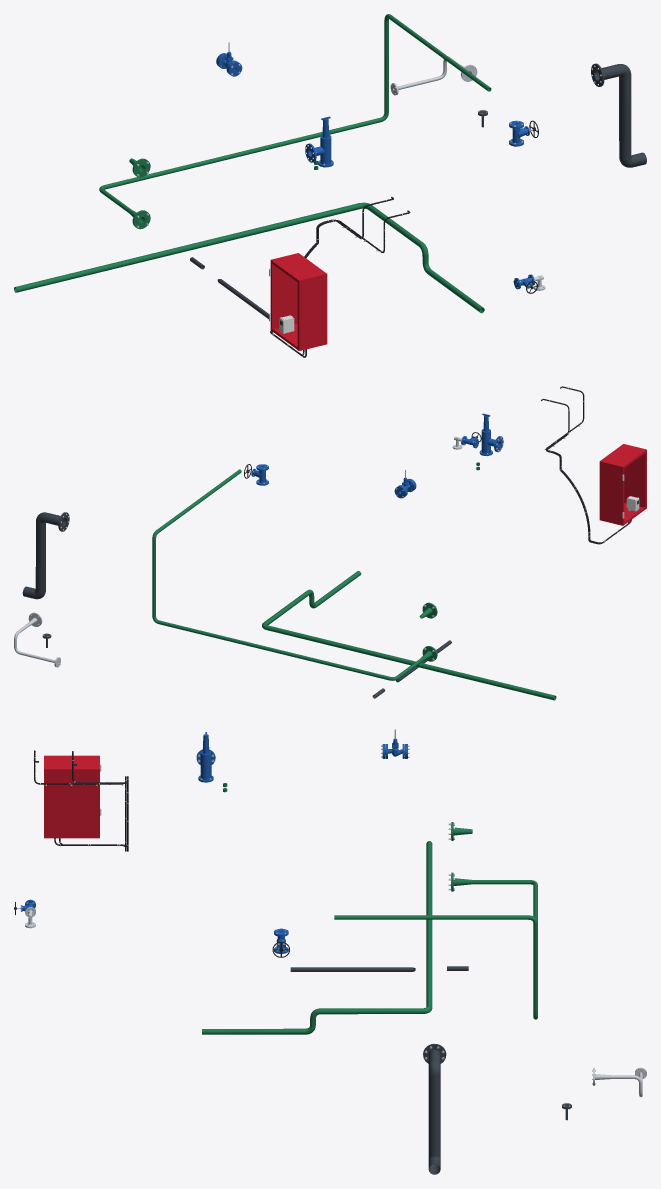
3 views of the same model, one above another, from view 1: azimuth 30°, elevation 25°; view 2: azimuth 150°, elevation 25°; view 3: azimuth 270°, elevation 25° (orthographic). The views are drawn at different scales.
Parts seen in each view (by area): view 1: control_cabinet / control_cabinet_0.npz, suction_common / green, to_economizer / green, bdv_water_drain / dark, safety_2 / blue, eco_inlet_adapter / green, fv_to_trap_gap / steel; view 2: control_cabinet / control_cabinet_0.npz, suction_common / green, to_economizer / green, bdv_water_drain / dark, safety_2 / blue, fv_to_trap_gap / steel; view 3: control_cabinet / control_cabinet_0.npz, suction_common / green, to_economizer / green, bdv_water_drain / dark, bottom_piping / dark.
Part boxes in pixels (box(x1,y1,x2,y2)): control_cabinet / control_cabinet_0.npz: box(269, 253, 327, 350); suction_common / green: box(14, 202, 484, 313); to_economizer / green: box(99, 14, 491, 213); bdv_water_drain / dark: box(591, 63, 646, 167); safety_2 / blue: box(305, 116, 333, 167); eco_inlet_adapter / green: box(129, 158, 150, 229); fv_to_trap_gap / steel: box(390, 56, 477, 95); control_cabinet / control_cabinet_0.npz: box(599, 444, 646, 525); suction_common / green: box(262, 571, 556, 700); to_economizer / green: box(152, 469, 422, 680); bdv_water_drain / dark: box(22, 512, 69, 599); safety_2 / blue: box(479, 413, 503, 455); fv_to_trap_gap / steel: box(14, 612, 60, 667); control_cabinet / control_cabinet_0.npz: box(44, 755, 101, 838); suction_common / green: box(202, 841, 432, 1034); to_economizer / green: box(334, 880, 537, 1019); bdv_water_drain / dark: box(423, 1043, 446, 1174); bottom_piping / dark: box(290, 967, 415, 971).
Bounding box in the file's own units: 6.75 × 2.53 × 5.99.
